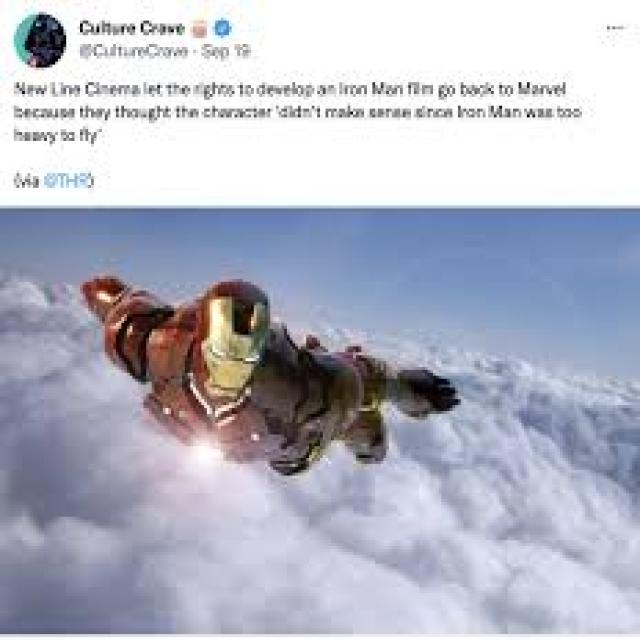ironman: (5, 205, 640, 640)
